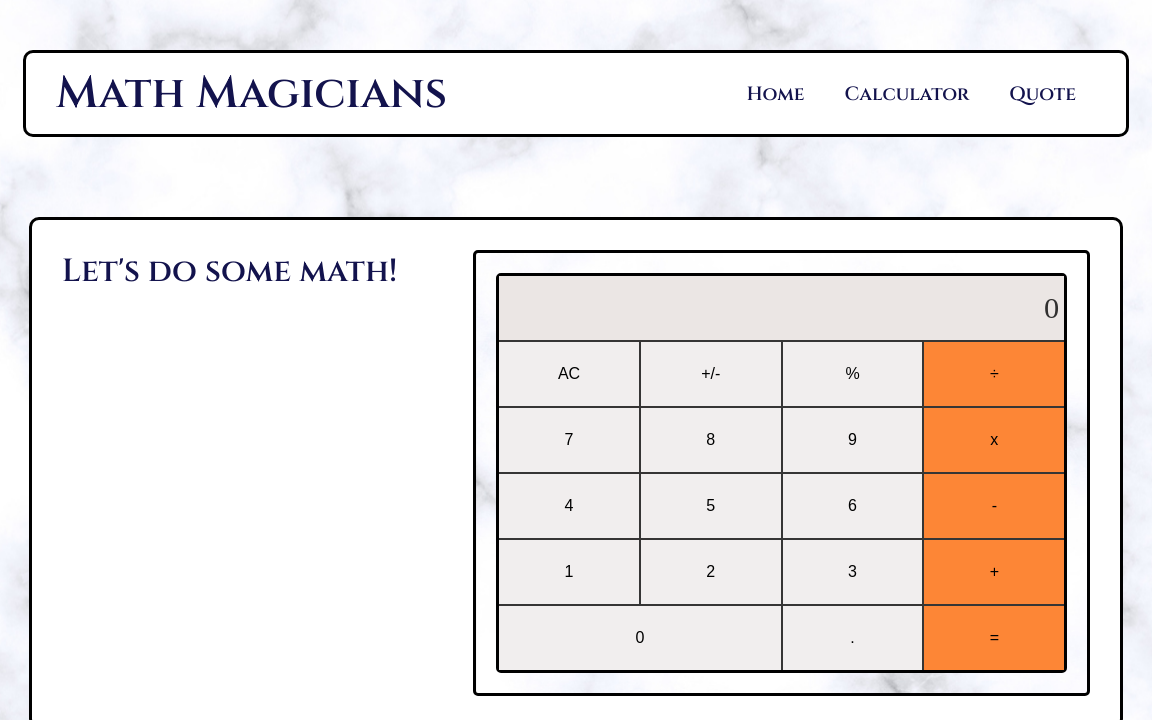
Testing for Header Links › Clicking on Calculator link renders Calculator
Click the link "Quote" at [1043, 94], box 1009,80 -> 1076,106
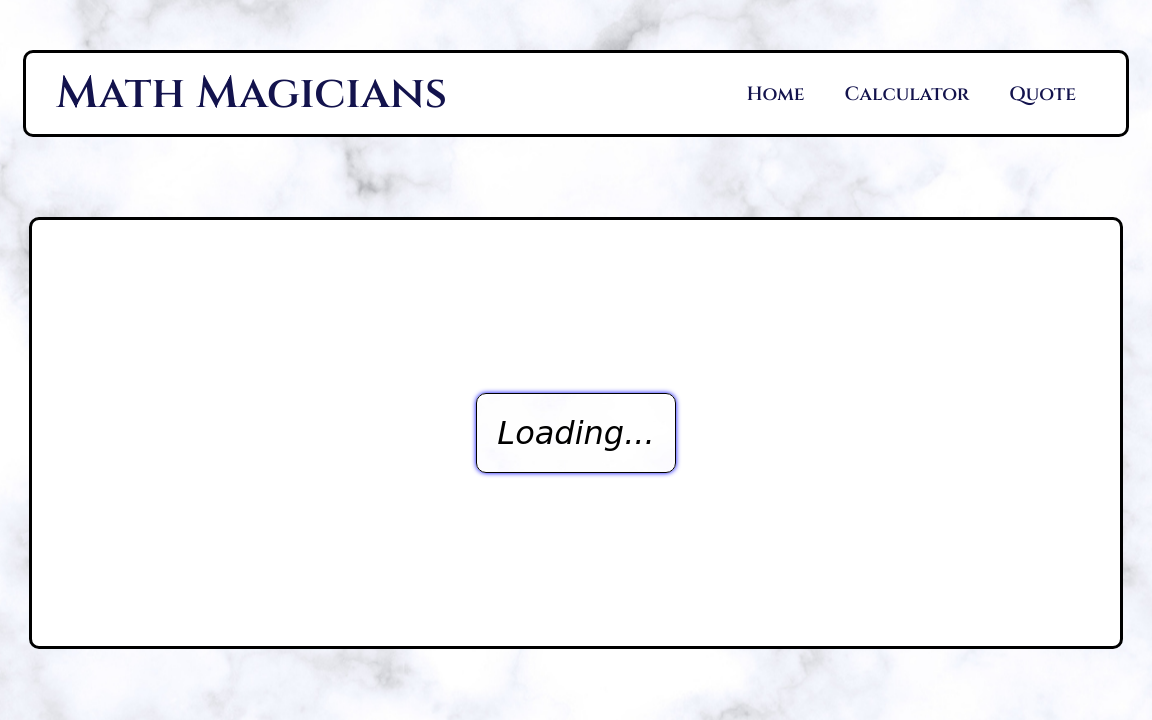
Now the text "Loading..." is shown, box 476,393 -> 676,473
